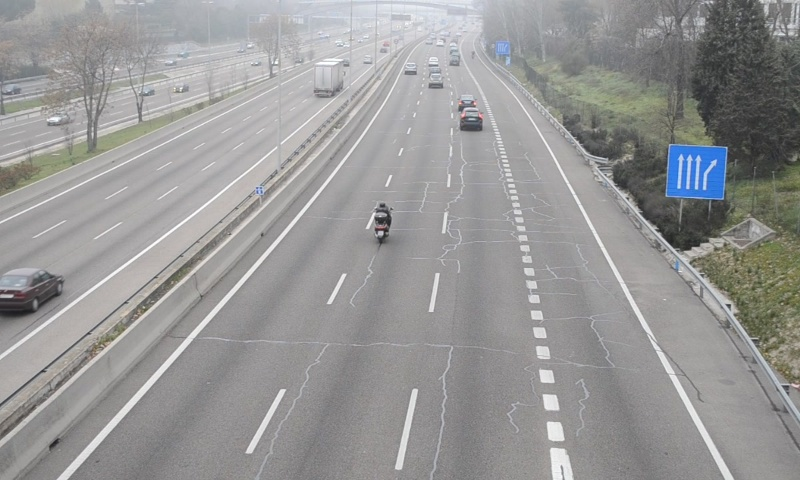car: (459, 108, 484, 130), (457, 94, 476, 109)
motorcycle: (372, 200, 393, 245)
